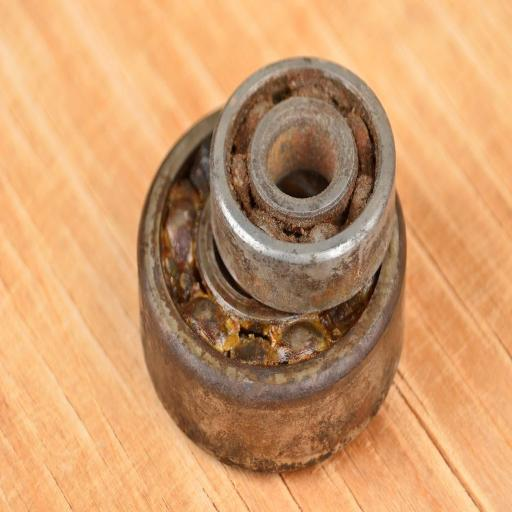segmentation: (138, 119, 406, 471), (160, 143, 375, 366), (225, 71, 376, 243)
